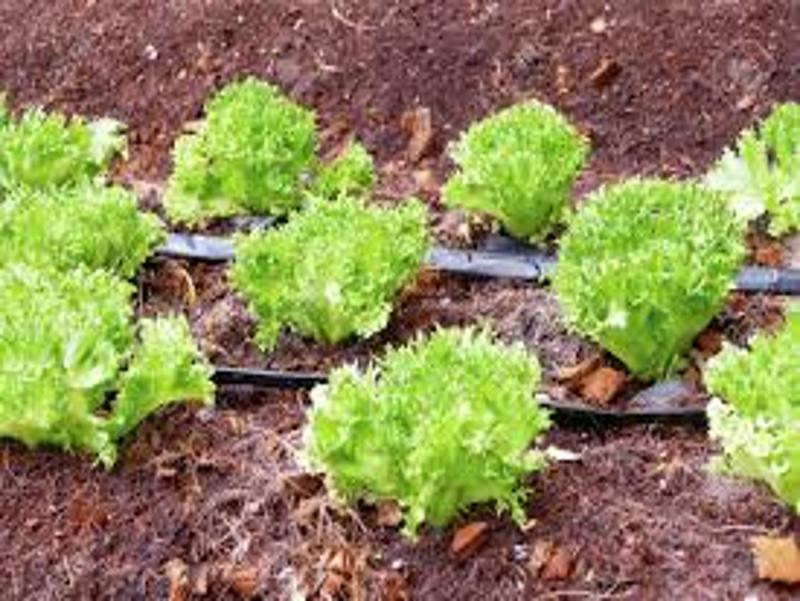green lettuce: (3, 266, 216, 469), (315, 330, 536, 521), (562, 179, 718, 379), (243, 190, 431, 340), (171, 81, 366, 215), (696, 301, 800, 509), (447, 100, 590, 225), (1, 186, 168, 282), (6, 107, 125, 189)
